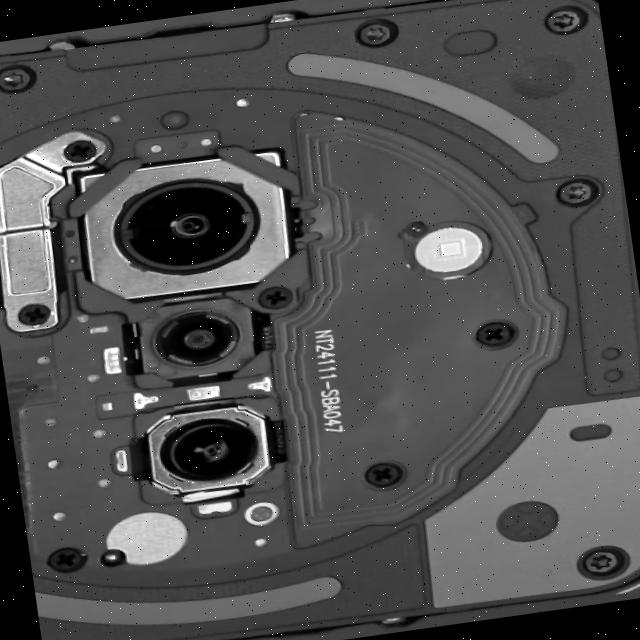Torx: (576, 544, 631, 582), (556, 177, 602, 209), (354, 17, 399, 49), (543, 4, 588, 36), (0, 62, 38, 95)
